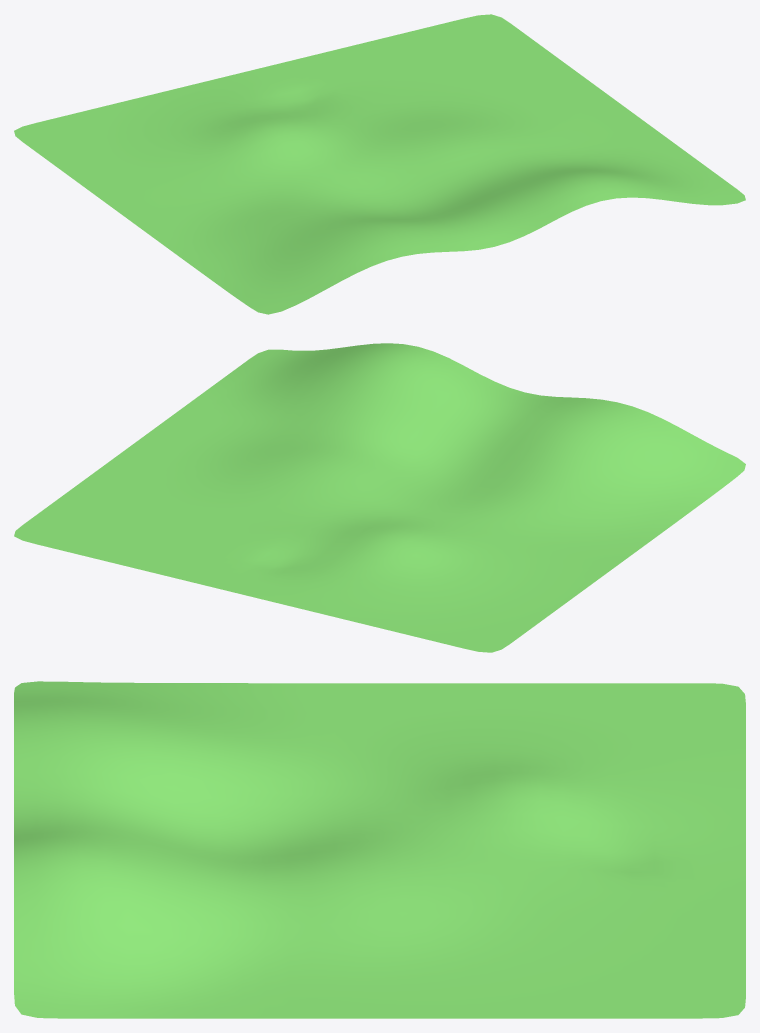
File: Terrain_001.fbx
3 renders of one model, top to bottom at view 1: azimuth 30°, elevation 25°; view 2: azimuth 150°, elevation 25°; view 3: azimuth 270°, elevation 25°, orthographic. The views are drawn at different scales.
Visible parts, largest first — view 1: Plane; view 2: Plane; view 3: Plane.
Part boxes in pixels (x1,y1,x2,y2): Plane: (14,14,745,314); Plane: (14,343,745,652); Plane: (14,681,745,1018).
Size of the model in its own units: 8538 by 721 by 7875.
